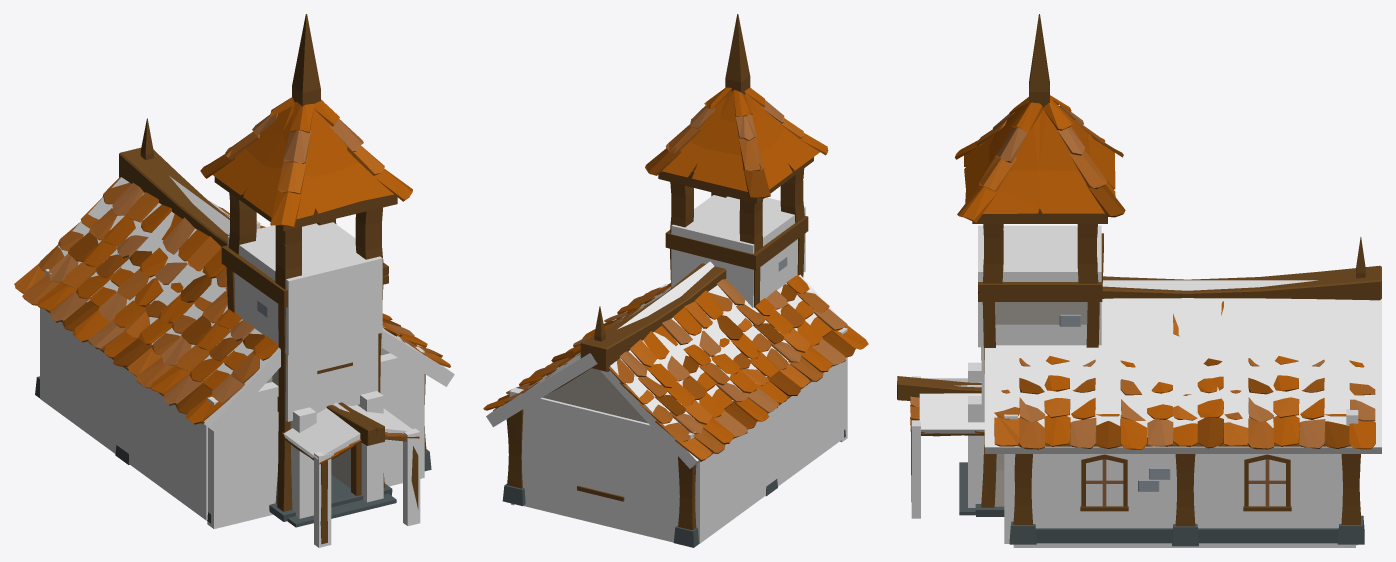
The model's file is church_1.glb.
3 views of the same model, side by side, from view 1: azimuth 30°, elevation 25°; view 2: azimuth 150°, elevation 25°; view 3: azimuth 270°, elevation 25° (orthographic). The views are drawn at different scales.
Visible parts, largest first — view 1: Church, Cube, Cube.010, Cube.003, Cube.006, Cube.002, Cube.007, Cube.011, Cube.009, Cube.008, Cube.005, Cube.013 (+2 smaller); view 2: Church, Cube.004, Cube, Cube.010, Cube.006, Cube.005; view 3: Church, Cube.005, Cube.001, Cube.010, Cube.012, Cube.006, Cube.008, Cube.013, Cube.007.
Part boxes in pixels (x1=…): Church: x1=14, y1=14, x2=450, y2=544; Cube: x1=40, y1=308, x2=207, y2=520; Cube.010: x1=227, y1=222, x2=382, y2=355; Cube.003: x1=207, y1=382, x2=278, y2=528; Cube.006: x1=58, y1=176, x2=280, y2=434; Cube.002: x1=285, y1=334, x2=378, y2=421; Cube.007: x1=380, y1=346, x2=424, y2=486; Cube.011: x1=283, y1=402, x2=360, y2=459; Cube.009: x1=290, y1=407, x2=316, y2=518; Cube.008: x1=358, y1=391, x2=383, y2=502; Cube.005: x1=207, y1=199, x2=454, y2=386; Cube.013: x1=403, y1=428, x2=420, y2=525; Church: x1=483, y1=14, x2=868, y2=547; Cube.004: x1=509, y1=387, x2=695, y2=542; Cube: x1=695, y1=362, x2=843, y2=543; Cube.010: x1=671, y1=195, x2=805, y2=307; Cube.006: x1=600, y1=261, x2=838, y2=468; Cube.005: x1=486, y1=283, x2=670, y2=427; Church: x1=897, y1=14, x2=1381, y2=546; Cube.005: x1=984, y1=298, x2=1381, y2=453; Cube.001: x1=1013, y1=454, x2=1355, y2=547; Cube.010: x1=978, y1=225, x2=1101, y2=347; Cube.012: x1=919, y1=385, x2=984, y2=433; Cube.006: x1=1102, y1=280, x2=1317, y2=290; Cube.008: x1=968, y1=396, x2=984, y2=507; Cube.013: x1=911, y1=420, x2=920, y2=518; Cube.007: x1=1004, y1=414, x2=1017, y2=543.
Size of the model in its own units: 7.99 by 13.87 by 12.65.
1 material, 1 textured.
